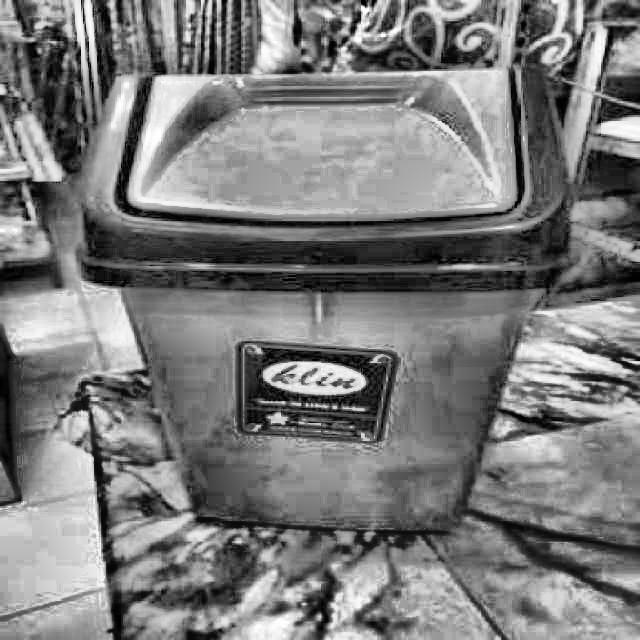Dustbin: (63, 64, 582, 554)
